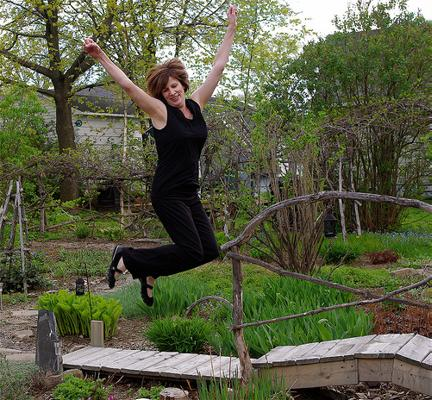person: (81, 9, 241, 299)
